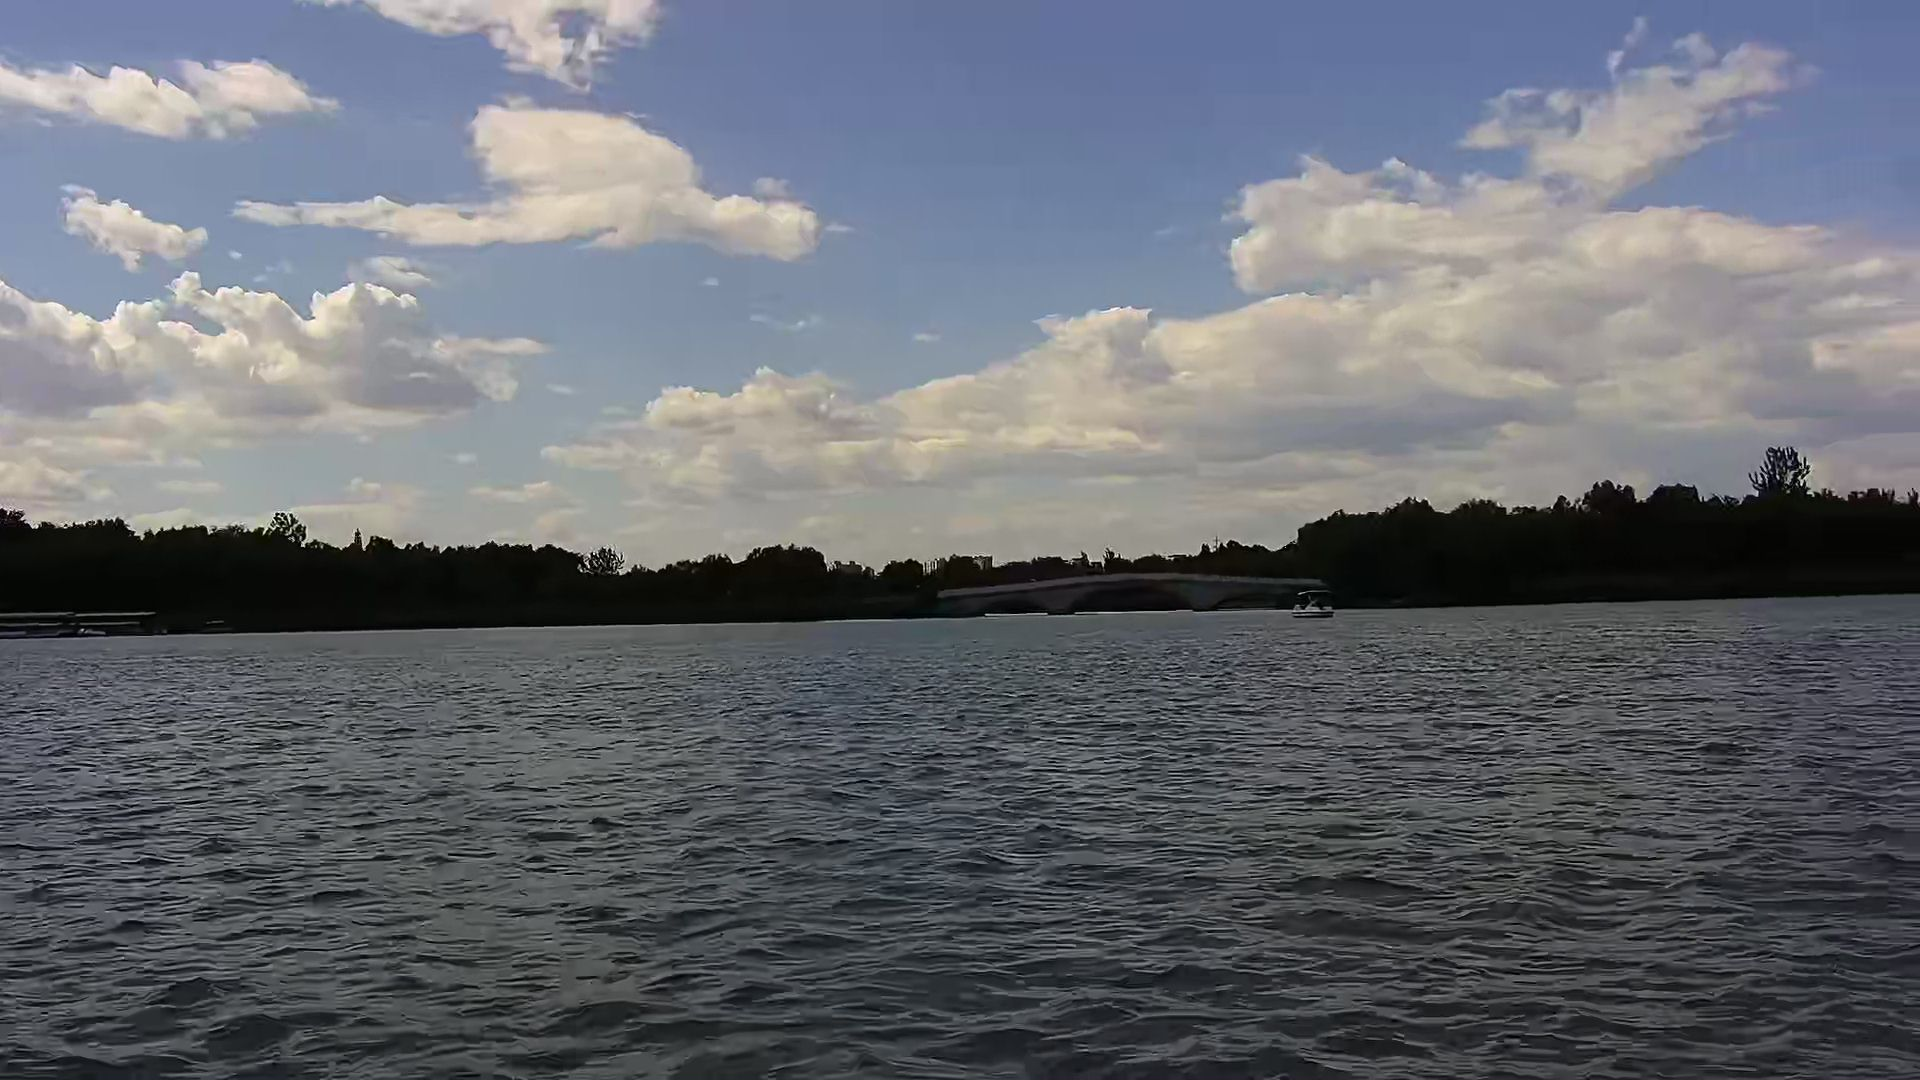boat: (1290, 589, 1335, 616)
bridge: (938, 574, 1319, 615), (1, 609, 160, 634)
